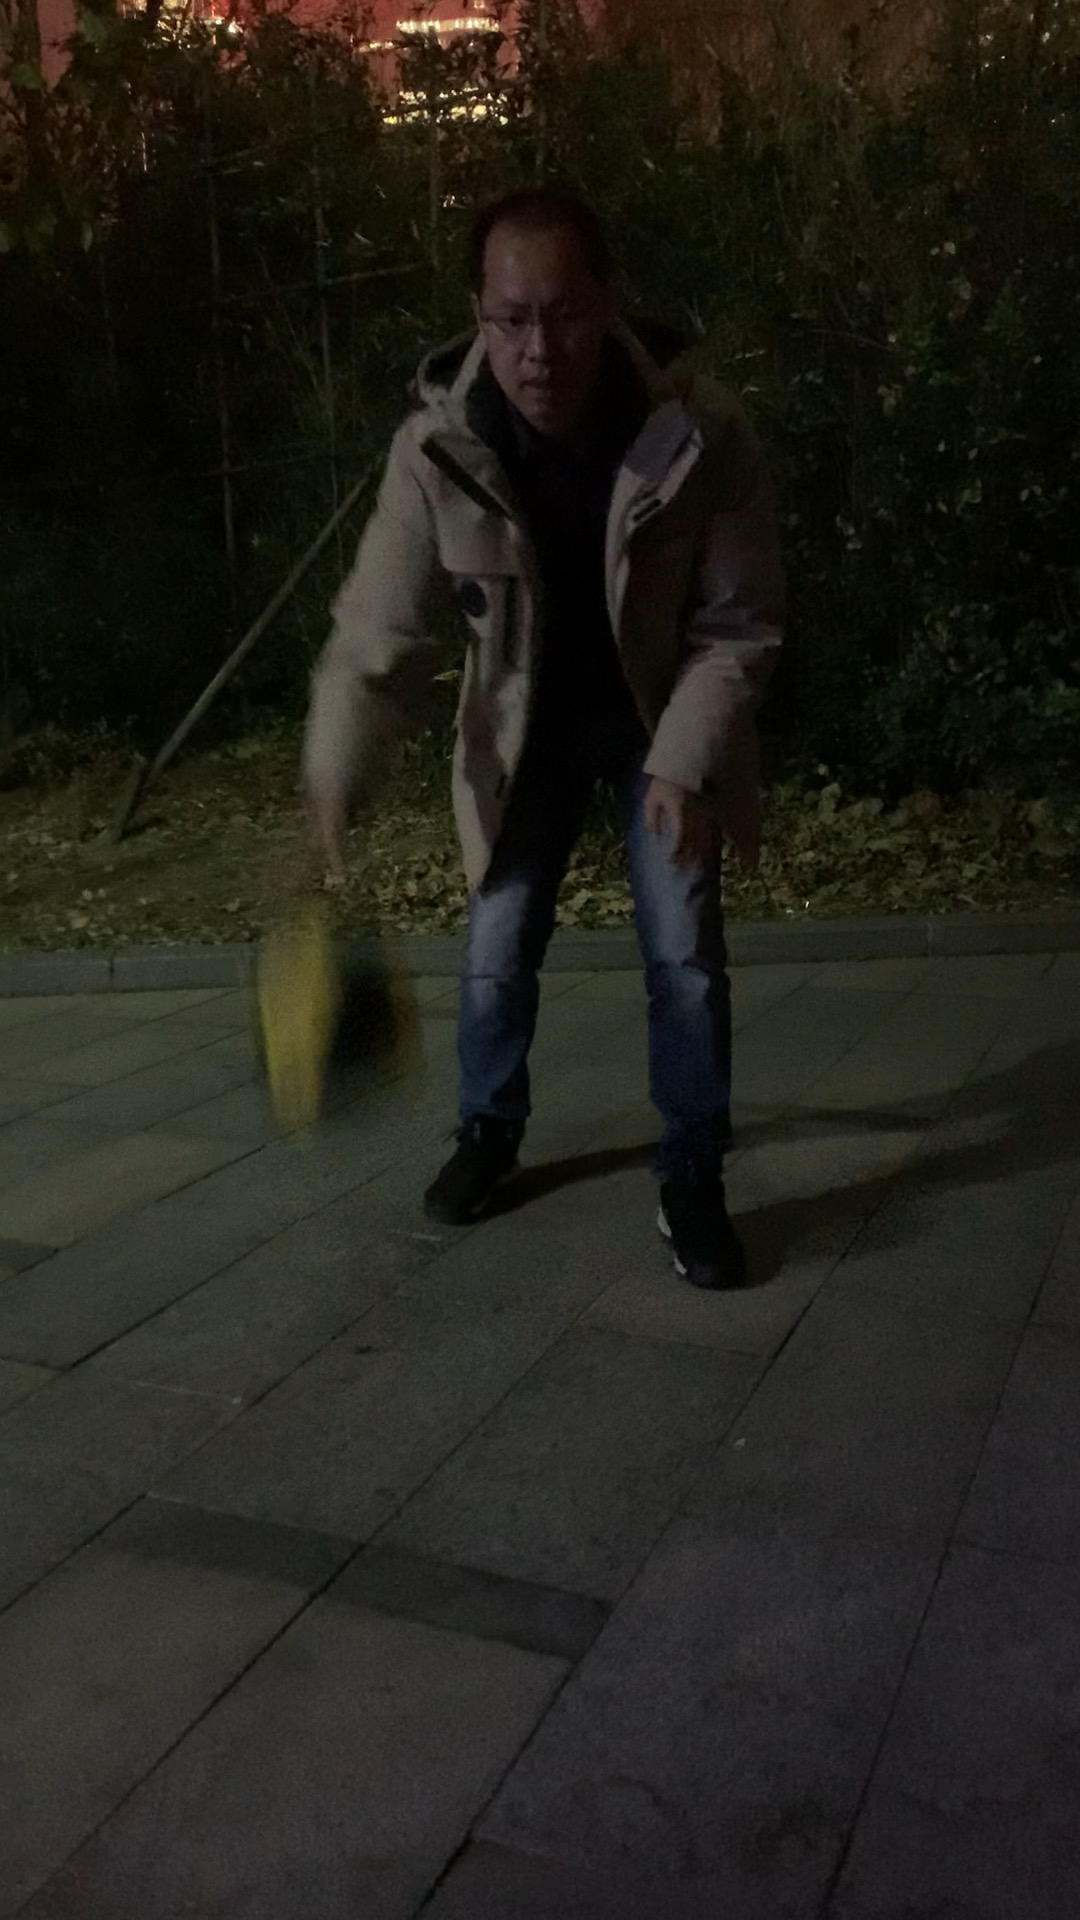ball: (236, 920, 422, 1116)
